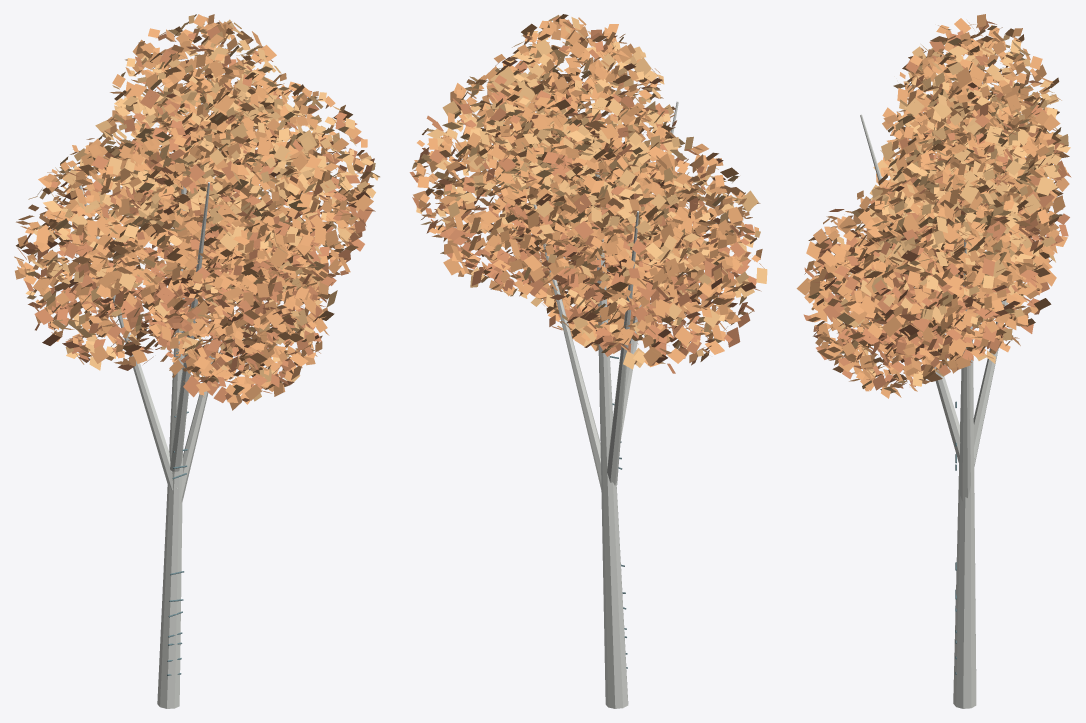
File: BirchRust.fbx
3 renders of one model, left to right at view 1: azimuth 30°, elevation 25°; view 2: azimuth 150°, elevation 25°; view 3: azimuth 270°, elevation 25°, orthographic. The views are drawn at different scales.
Visible parts, largest first — view 1: Rigid.003; view 2: Rigid.003; view 3: Rigid.003.
Boxes of the visible parts, left/top/right/bottom form: Rigid.003: left=14, top=14, right=379, bottom=708; Rigid.003: left=409, top=14, right=767, bottom=708; Rigid.003: left=796, top=14, right=1071, bottom=708.
Bounding box in the file's own units: 5.42 × 10.32 × 3.67.
